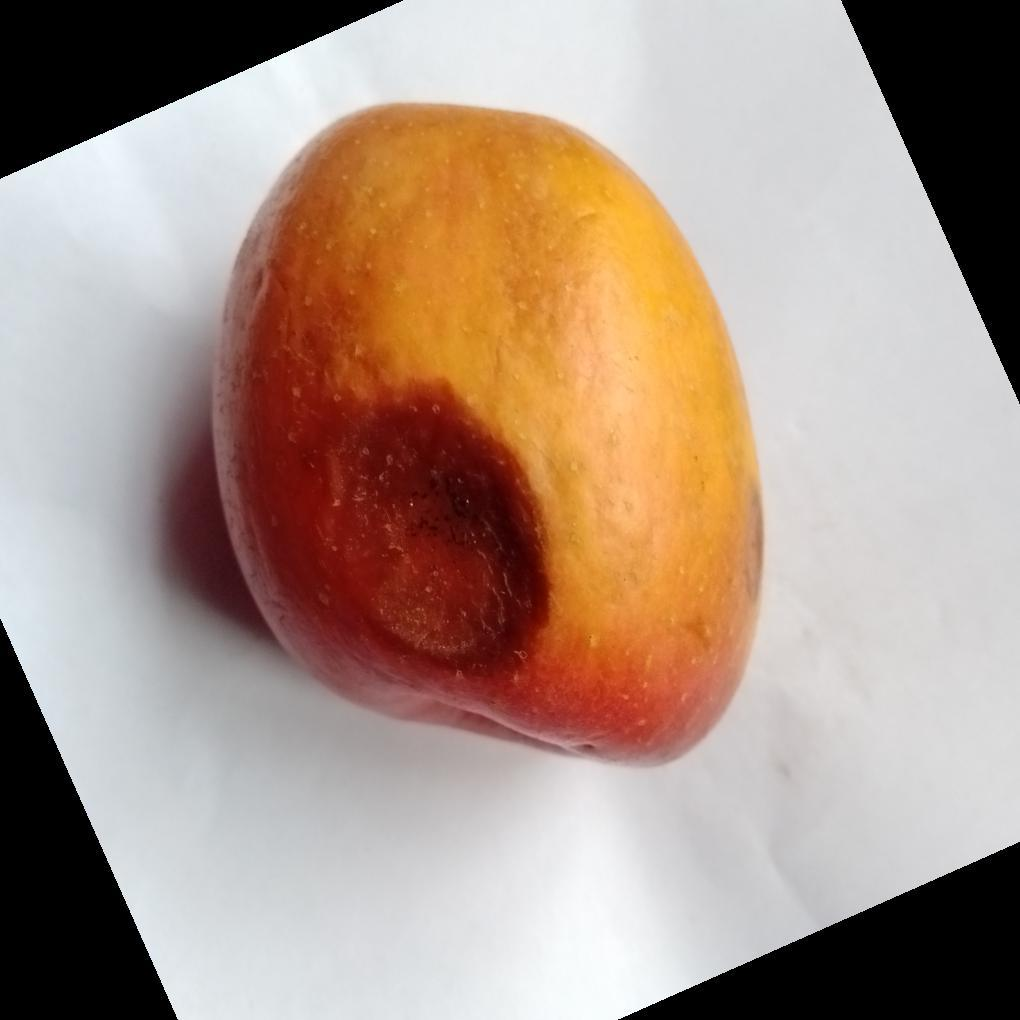FreshOrange: (210, 103, 767, 771)
